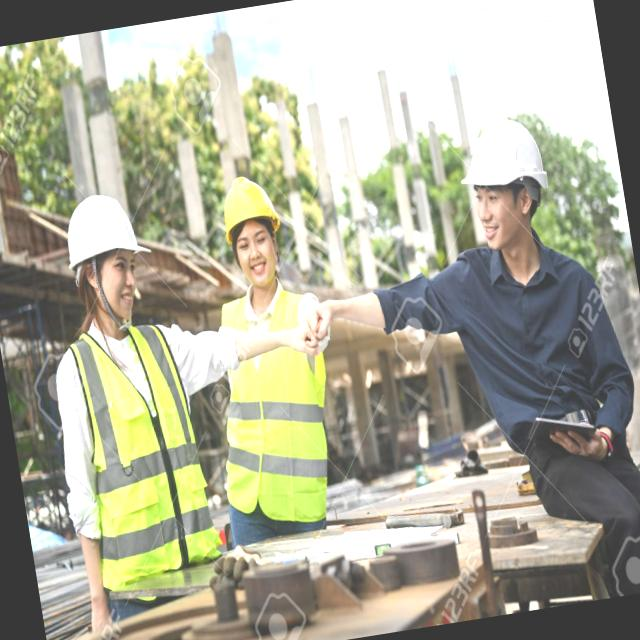helmet: (58, 185, 158, 302), (450, 110, 555, 218), (214, 169, 286, 250)
no-goggles: (463, 173, 542, 224), (85, 248, 151, 294), (228, 224, 280, 259)
no-vest: (452, 237, 614, 434)
vest: (59, 310, 236, 618), (215, 288, 346, 492)
